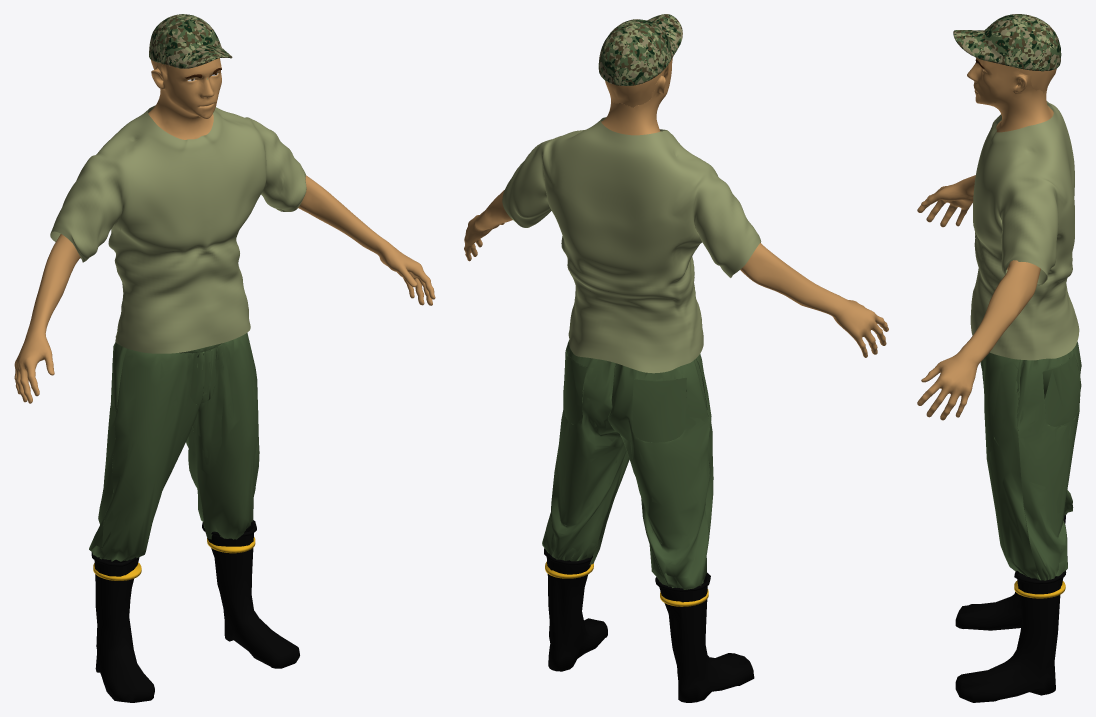
The model's file is CazadorFinal.fbx.
3 views of the same model, side by side, from view 1: azimuth 30°, elevation 25°; view 2: azimuth 150°, elevation 25°; view 3: azimuth 270°, elevation 25° (orthographic).
Visible parts, largest first — view 1: Cazador; view 2: Cazador; view 3: Cazador.
Boxes of the visible parts, x1=… form: Cazador: x1=14, y1=14, x2=435, y2=702; Cazador: x1=464, y1=14, x2=888, y2=702; Cazador: x1=917, y1=14, x2=1081, y2=702.
Size of the model in its own units: 123 by 185 by 42.91.
9 materials, 1 textured.
